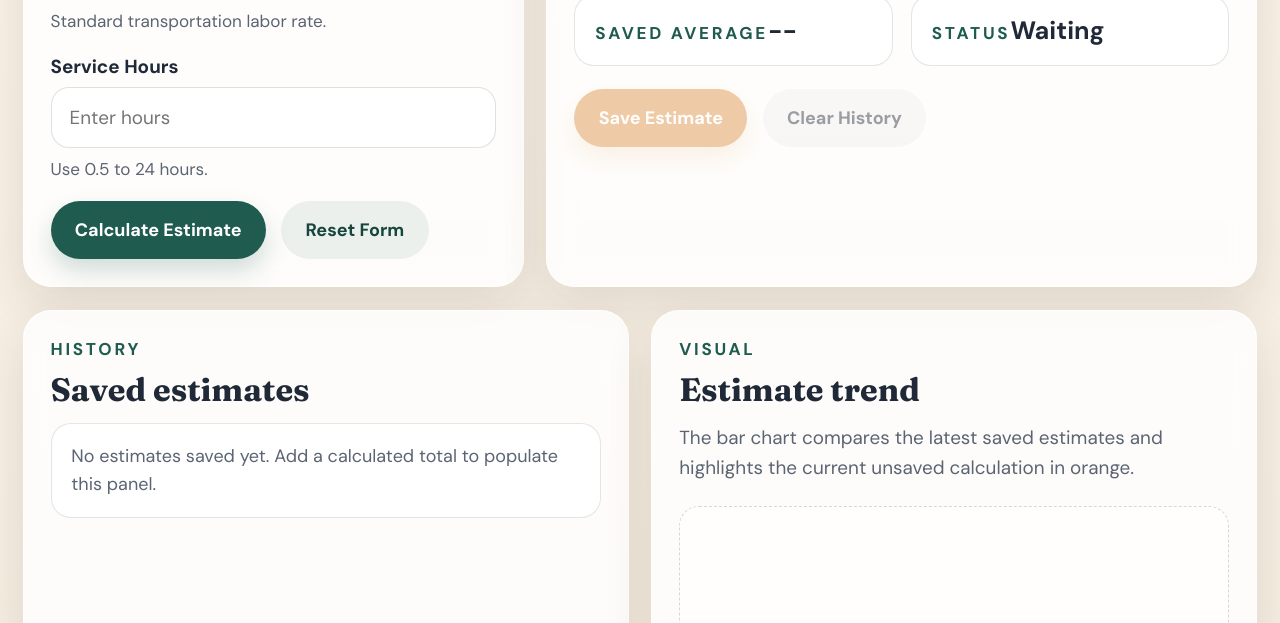
Test case: shows an error when calculate is clicked with empty input
(page scrolled)
What coordinates should you click on to do the following:
click the button "Calculate Estimate"
I would click on:
 (158, 230)
Its box is [50,201,266,260].
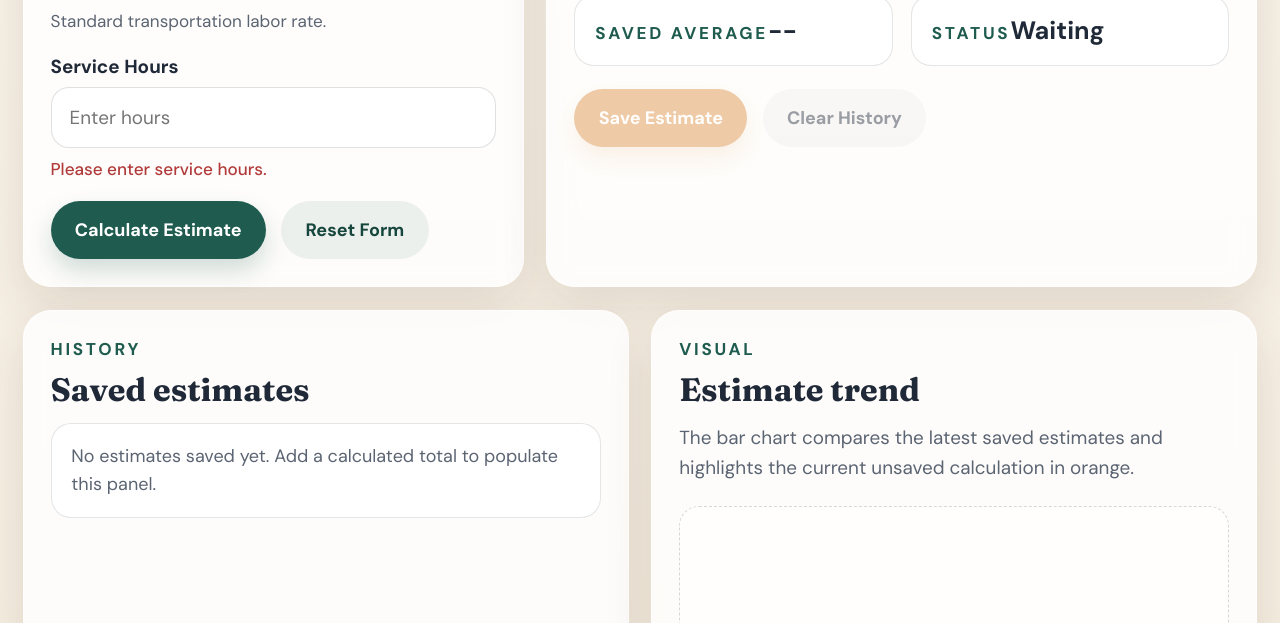
Expected: the text "Please enter service hours." is shown, [50,158,267,180]
